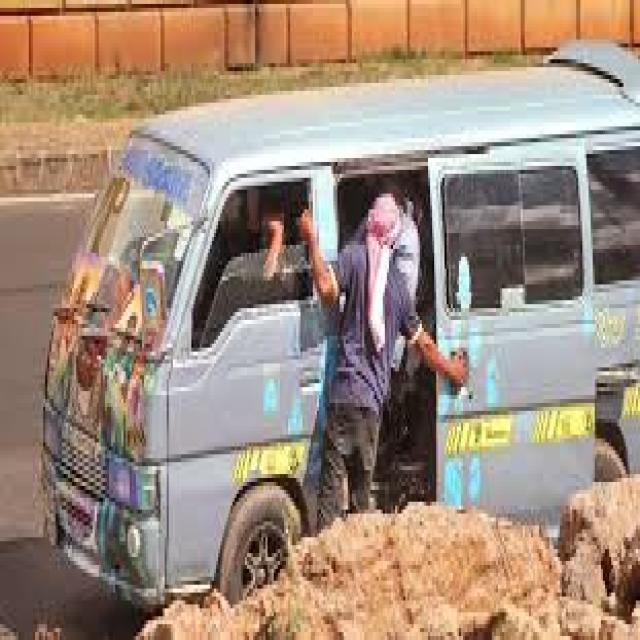matatu: (20, 27, 640, 588)
